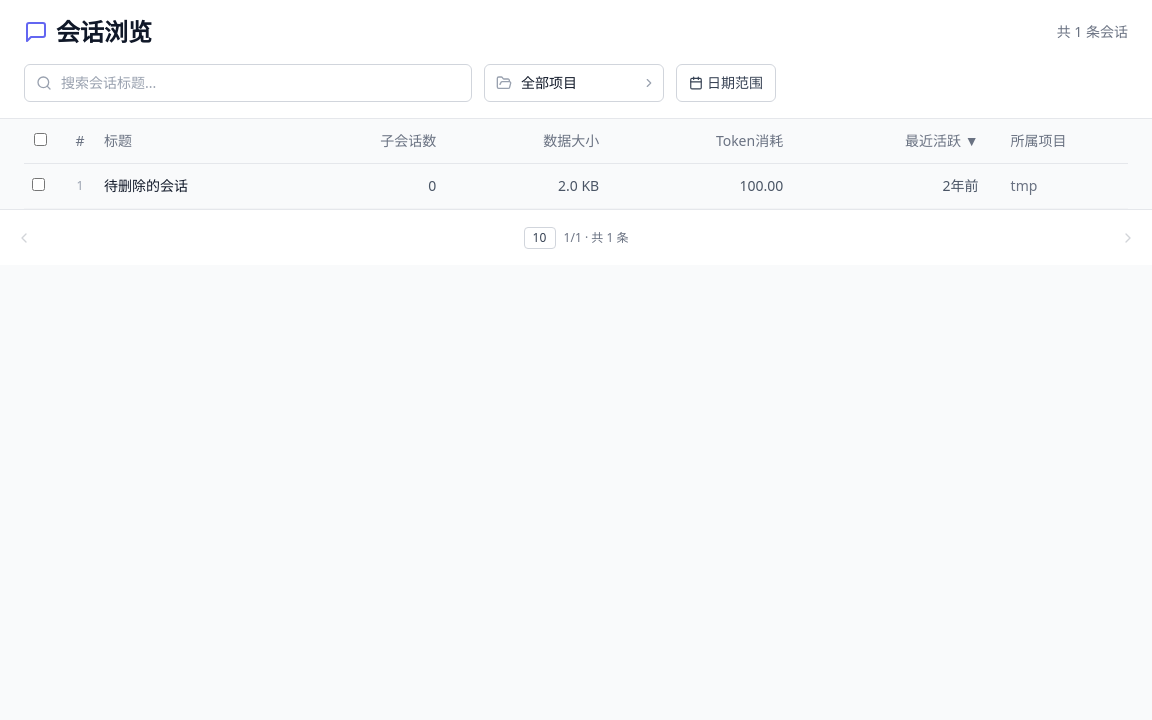
Test case: Sessions 删除确认文案按方言区分（P2-8） › v2：保留「同时删除其所有子会话」
Click the text "待删除的会话": [146, 186] box 104,164 -> 289,208
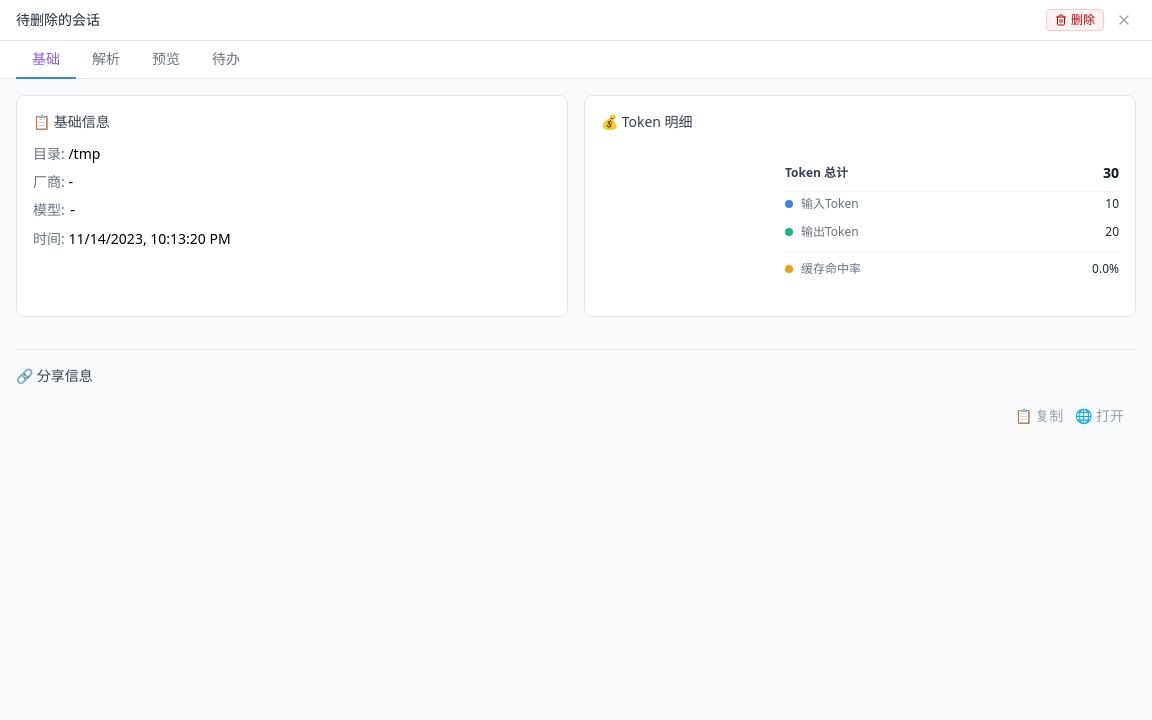
Click the button with aria-label "删除会话": [1075, 20] box 1046,9 -> 1104,31
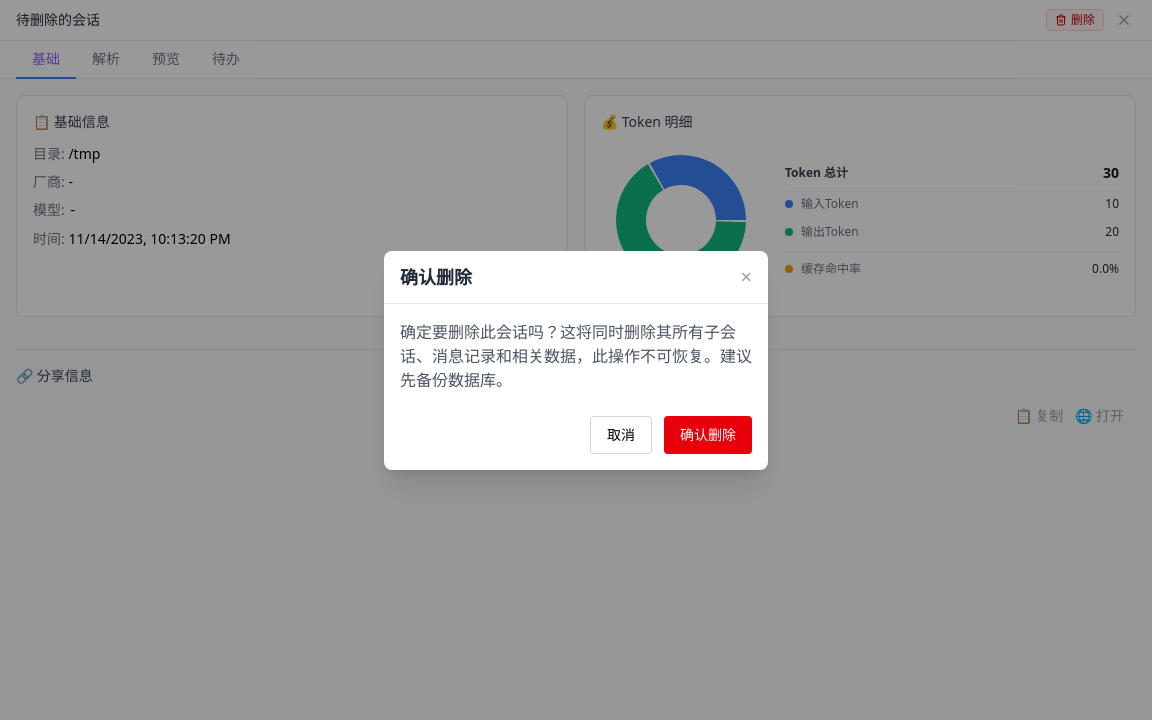
expect the button "确认删除" is shown: met, box 664,416 -> 752,454
expect the text "确定要删除此会话吗？这将同时删除其所有子会话、消息记录和相关数据，此操作不可恢复。建议先备份数据库。" is shown: met, box 400,320 -> 752,392
